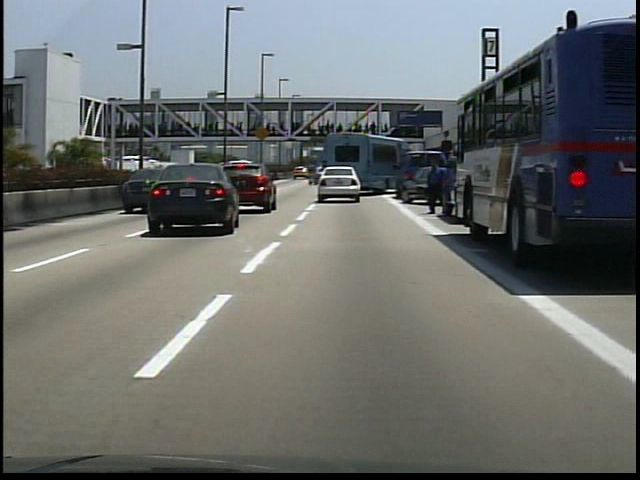person: (425, 157, 446, 218)
